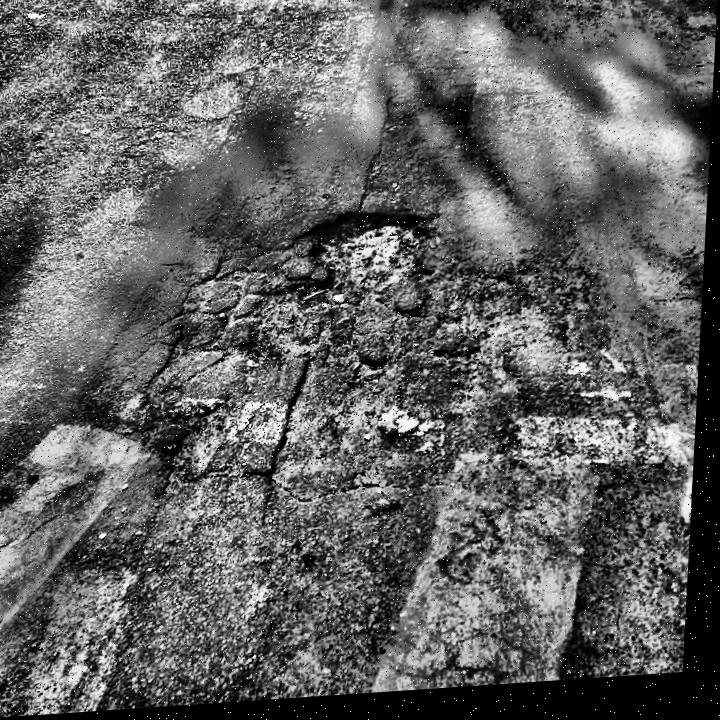pothole: (293, 209, 448, 308), (247, 279, 350, 367), (169, 409, 239, 492)
